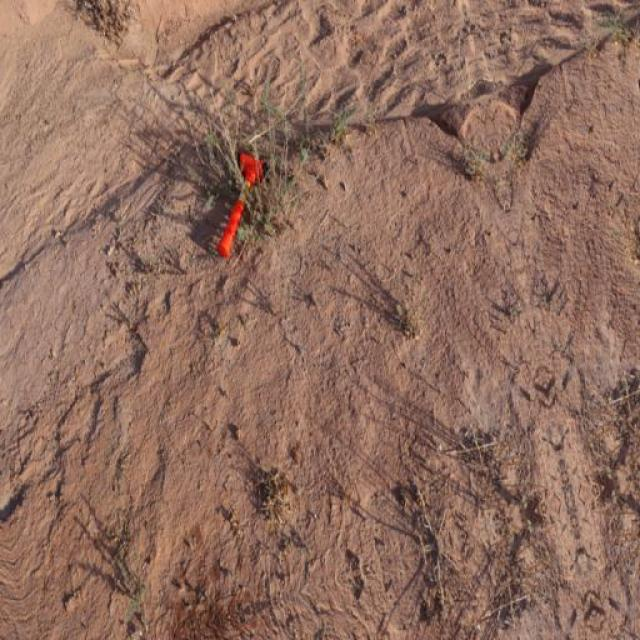mallet: (215, 149, 265, 259)
